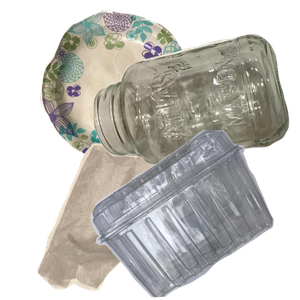glass: (91, 32, 300, 189)
paper: (37, 10, 219, 167)
plastic: (88, 130, 300, 300)
trash: (35, 140, 203, 300)
